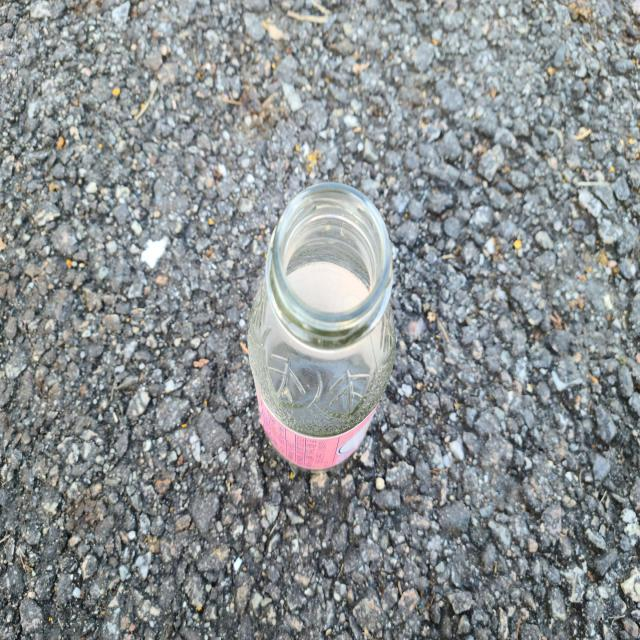glass: (248, 182, 396, 470)
